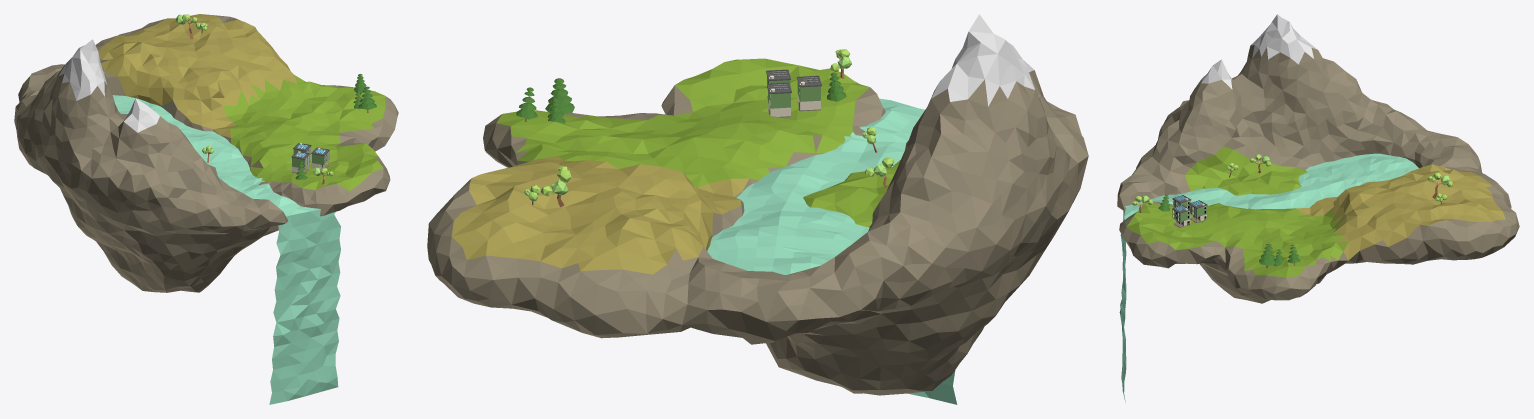
The model's file is islandtest_compress.glb.
3 views of the same model, side by side, from view 1: azimuth 30°, elevation 25°; view 2: azimuth 150°, elevation 25°; view 3: azimuth 270°, elevation 25° (orthographic). The views are drawn at different scales.
Parts seen in each view (by area): view 1: Icosphere.003, Plane.006, Cube.009; view 2: Icosphere.003, Plane.006, Cube.007, Cube.008; view 3: Icosphere.003, Plane.006, Cube.009.
Boxes of the visible parts, box(x1,y1,x2,y2) form: Icosphere.003: box(14, 14, 398, 292); Plane.006: box(112, 95, 340, 404); Cube.009: box(311, 147, 329, 169); Icosphere.003: box(427, 14, 1088, 395); Plane.006: box(606, 98, 957, 404); Cube.007: box(796, 75, 821, 111); Cube.008: box(767, 82, 791, 117); Icosphere.003: box(1117, 14, 1519, 303); Plane.006: box(1119, 153, 1427, 402); Cube.009: box(1172, 205, 1190, 227).
Size of the model in its own units: 31.57 by 28.44 by 33.03.
